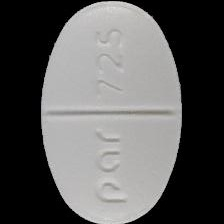54868-6455: (0, 0, 224, 224)
